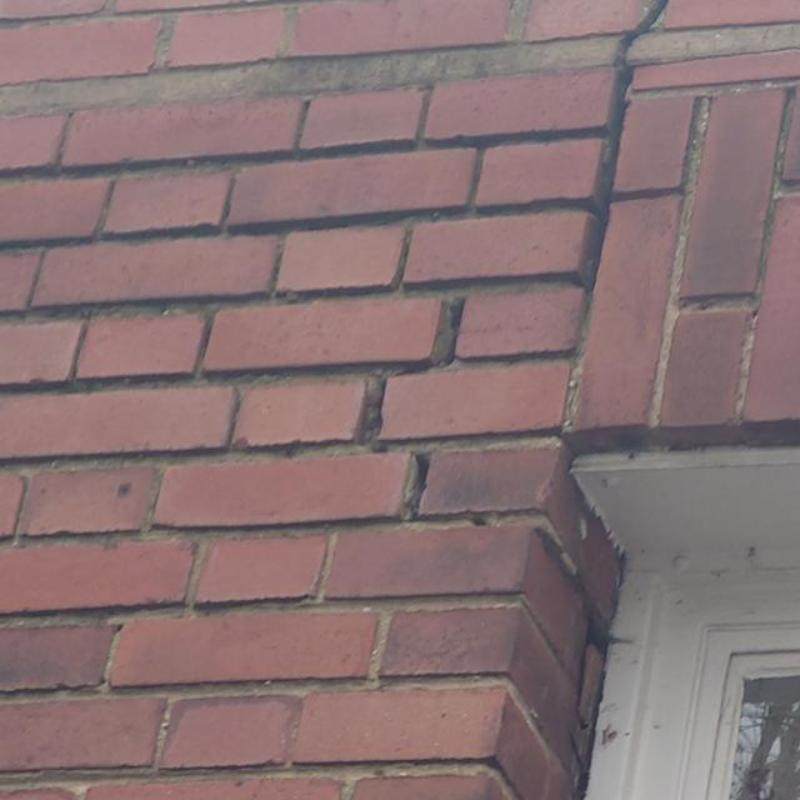pothole: (593, 0, 666, 294), (538, 531, 609, 730), (370, 300, 464, 440), (406, 454, 429, 522)
